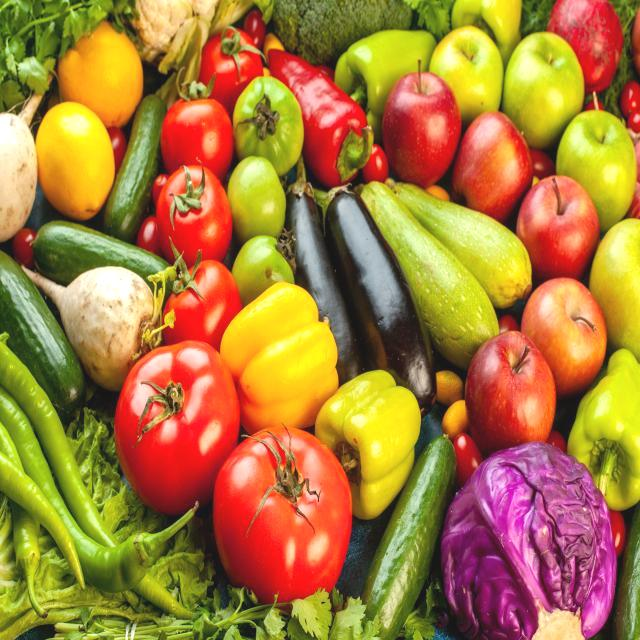bell_pepper: (223, 276, 338, 434), (327, 358, 422, 508), (576, 336, 640, 510)
cucumber: (356, 427, 458, 635), (1, 256, 88, 406), (31, 214, 177, 294), (116, 87, 166, 235)
eggplant: (325, 176, 437, 411), (288, 157, 364, 391)
tomato: (216, 423, 354, 596), (116, 338, 240, 516), (158, 171, 236, 263), (167, 262, 237, 352), (165, 97, 237, 184), (209, 29, 265, 97)
zucchini: (366, 173, 499, 362), (392, 173, 532, 306)
